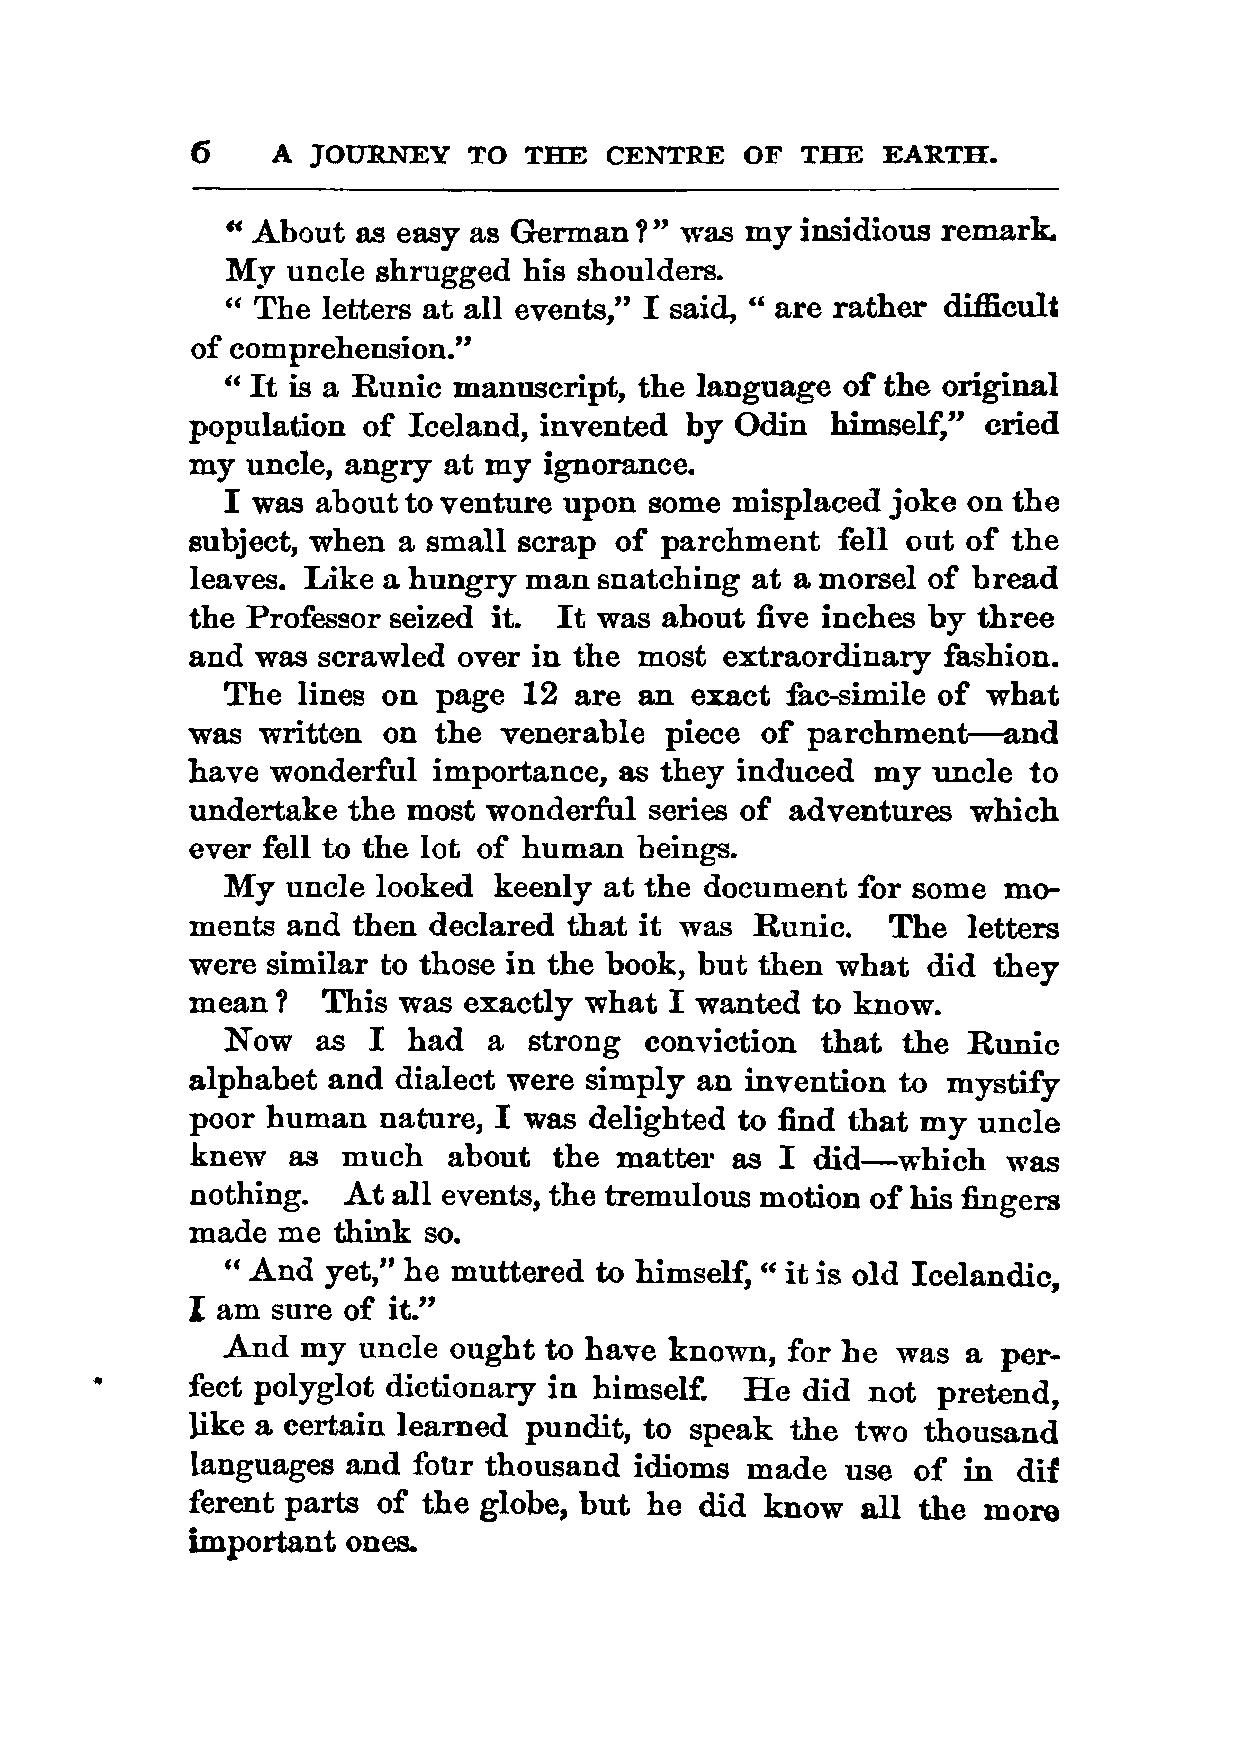content: (181, 213, 1063, 1562)
content_chapter: (268, 142, 994, 169)
content_pagenumber: (184, 137, 213, 164)
